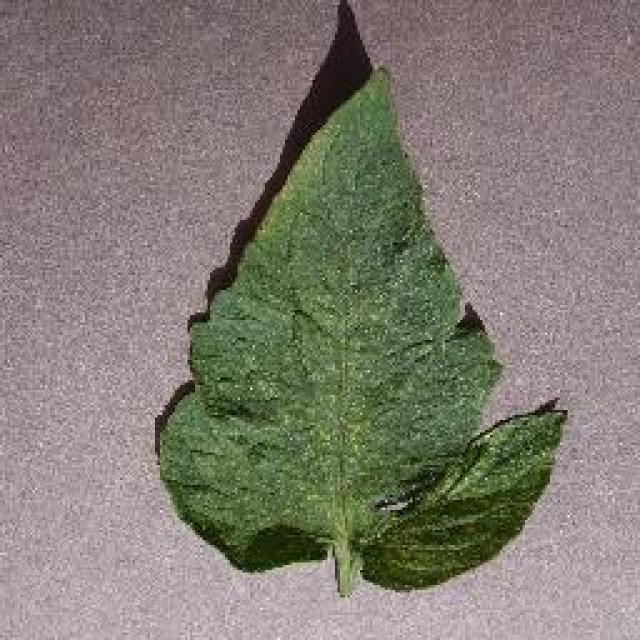Tomato___Spider_mites Two-spotted_spider_mite: (160, 70, 565, 595)
